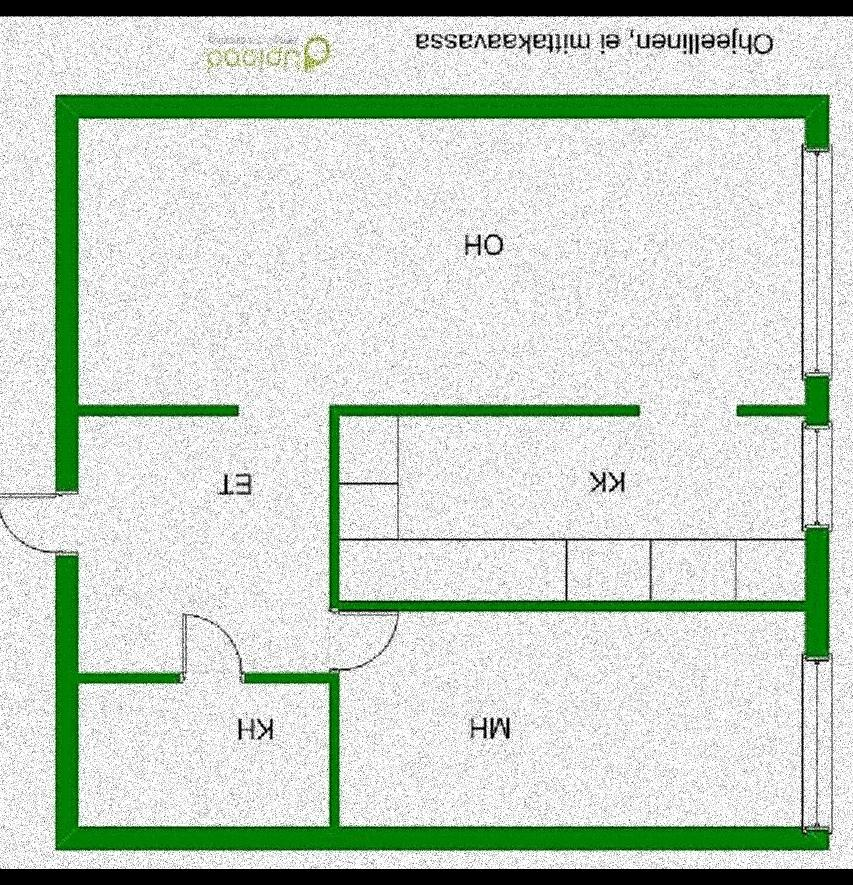door: (77, 120, 806, 671), (341, 610, 807, 830), (79, 684, 329, 825)
window: (173, 609, 247, 684), (0, 493, 81, 557), (326, 610, 398, 669)
zone: (804, 149, 834, 374), (805, 661, 831, 825), (805, 423, 834, 527)
